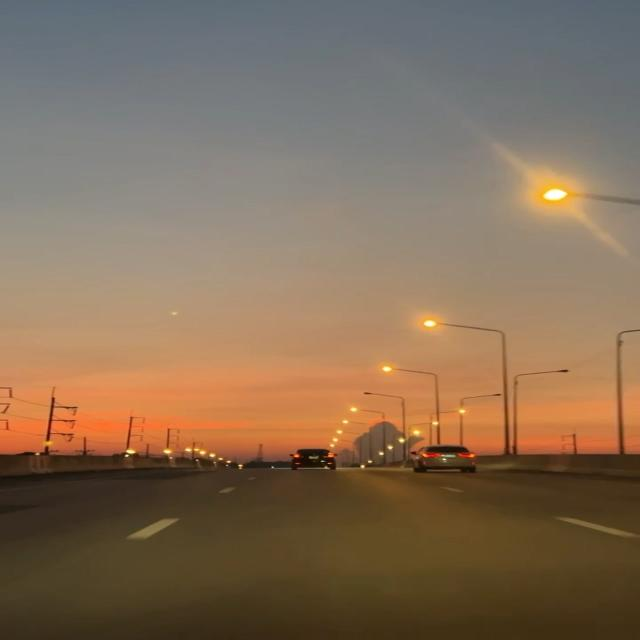Poth-hole: (169, 466, 611, 640)
